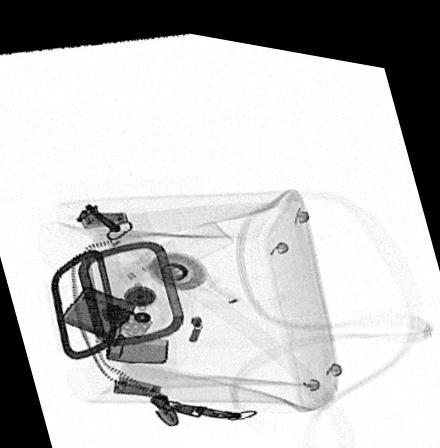Lighter: (58, 283, 170, 359)
